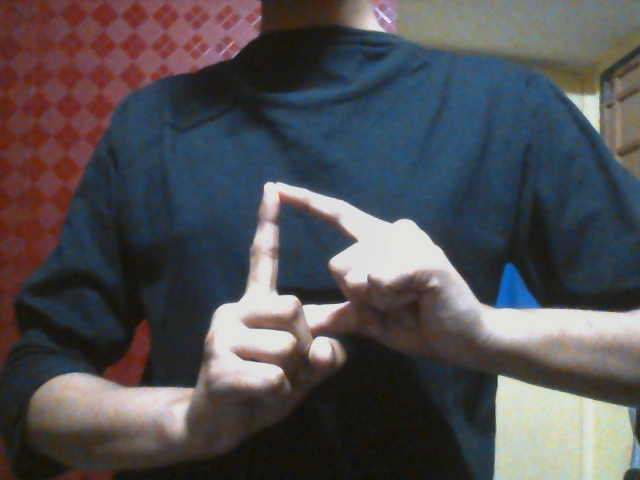D: (207, 180, 473, 446)
